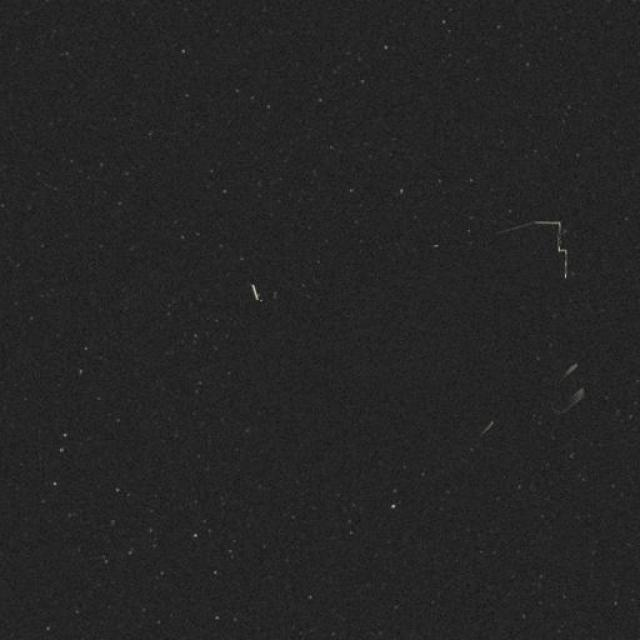proba_3_csc: (238, 193, 597, 470)
